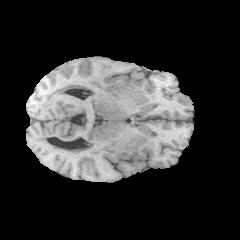glioma: (37, 80, 158, 157)
